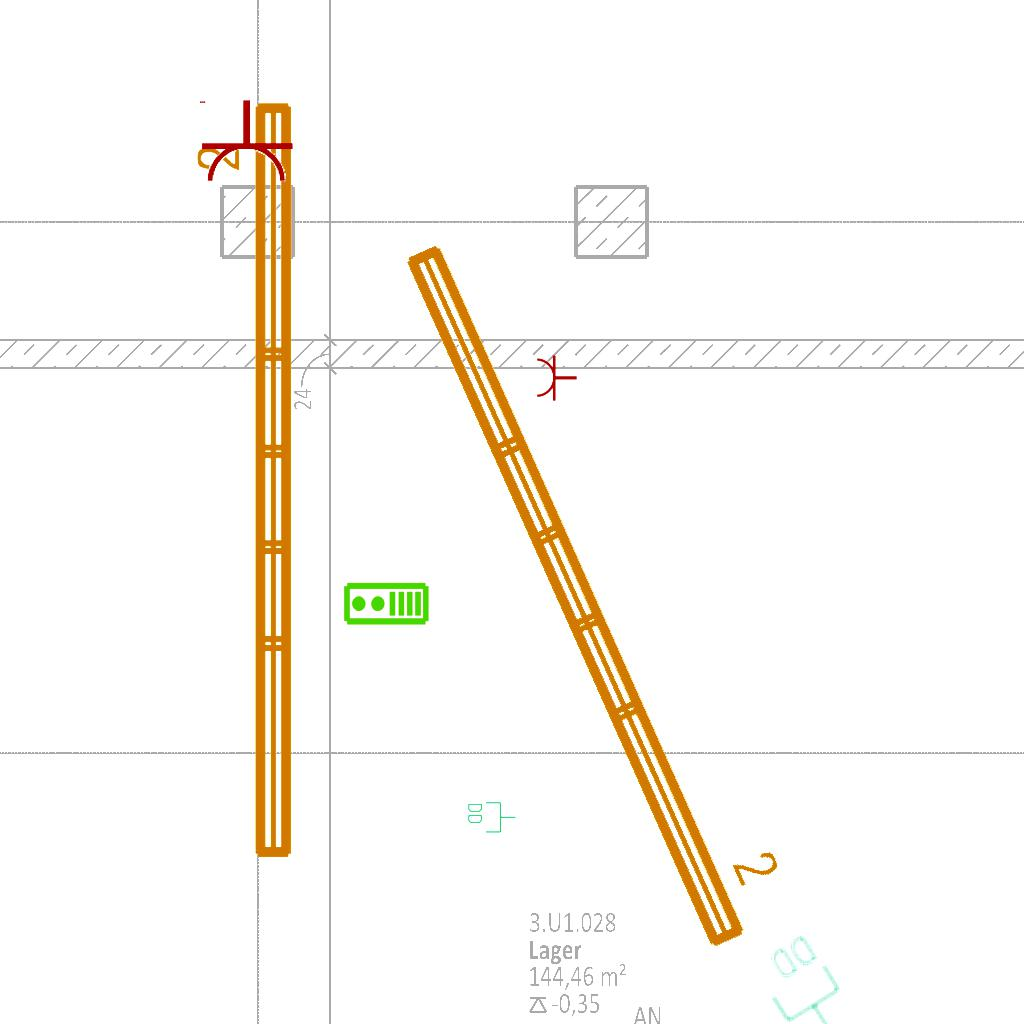Ambulanz_Pendelleuchte_LED: (389, 208, 807, 962), (192, 94, 304, 868)
Datenanschluss_zweifach: (747, 927, 862, 1024), (466, 800, 517, 834)
Gegensprechanlage_mit_Video: (342, 581, 430, 628)
Schukosteckdose_einfach: (195, 98, 295, 185), (535, 352, 578, 402)
